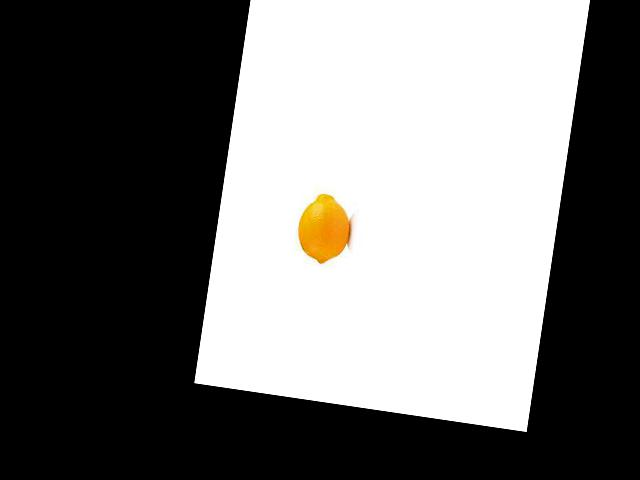lemon: (290, 185, 353, 270)
